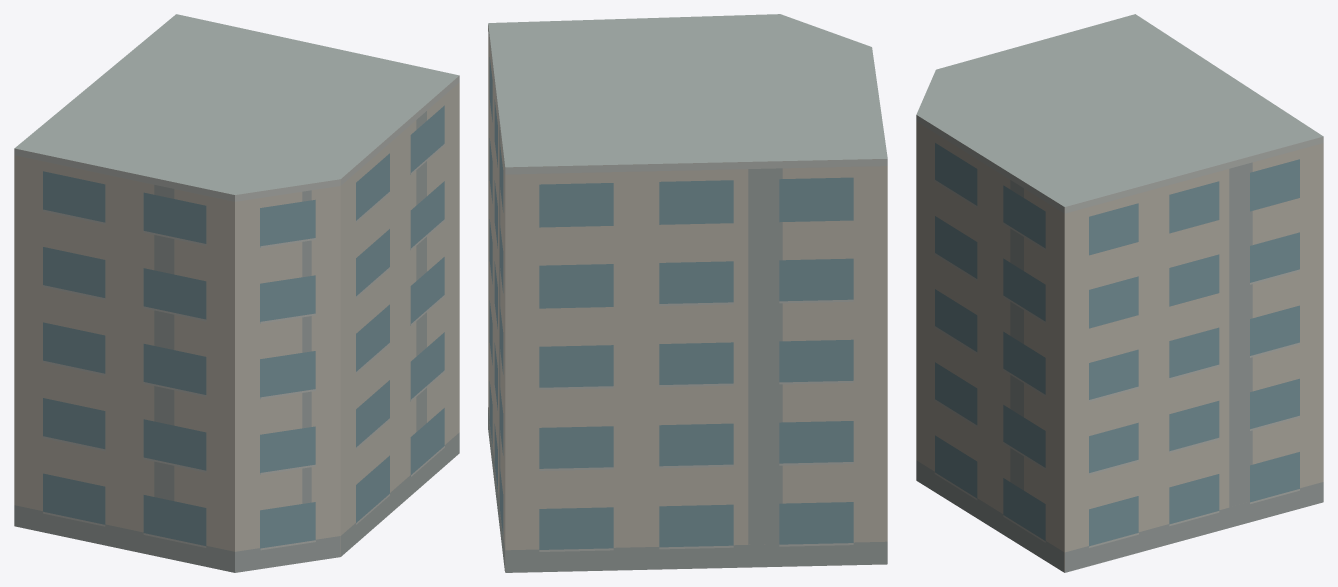
File: survey-upis-32888350.glb
3 renders of one model, left to right at view 1: azimuth 30°, elevation 25°; view 2: azimuth 150°, elevation 25°; view 3: azimuth 270°, elevation 25°, orthographic. The views are drawn at different scales.
Parts seen in each view (by area): view 1: survey-upis-32888350.tmp; view 2: survey-upis-32888350.tmp; view 3: survey-upis-32888350.tmp.
Part boxes in pixels (x1,y1,x2,y2): survey-upis-32888350.tmp: [14, 14, 459, 572]; survey-upis-32888350.tmp: [488, 14, 887, 572]; survey-upis-32888350.tmp: [916, 14, 1323, 572].
Size of the model in its own units: 15.52 by 13.7 by 13.84.
